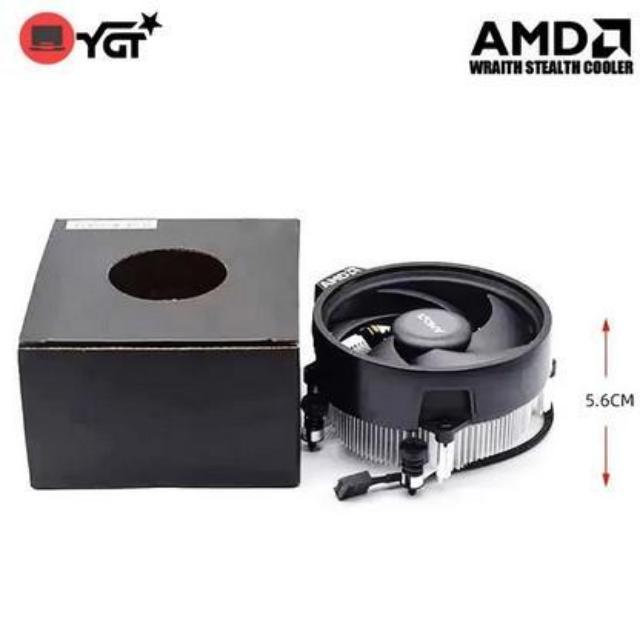CPU_Fan: (300, 256, 562, 493)
